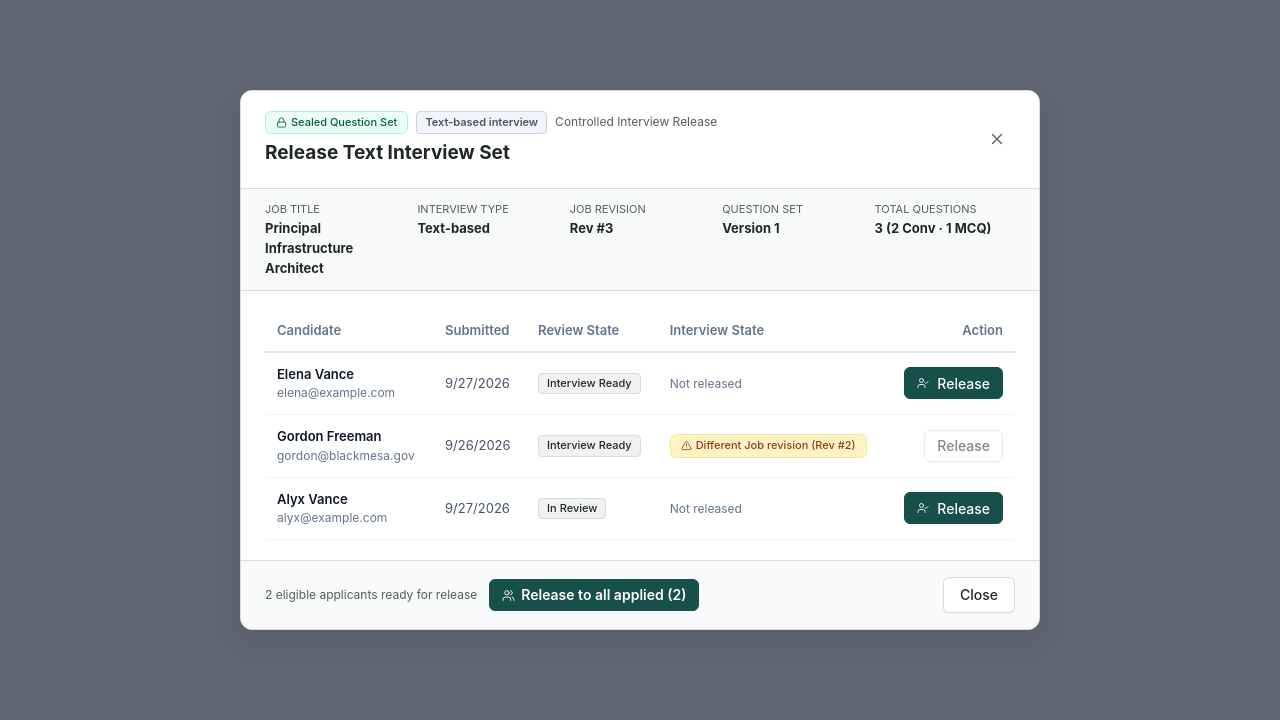
Test case: Phase 4C.3 Corrective UI Additions › A. Release Interview Set from Sealed AI Interview Page › 5. Successful release updates the row to Released
The image size is (1280, 720).
Click the button titled "Release interview set to Elena Vance" in the row of "Elena Vance": point(954, 383) left=904, top=367, right=1003, bottom=399
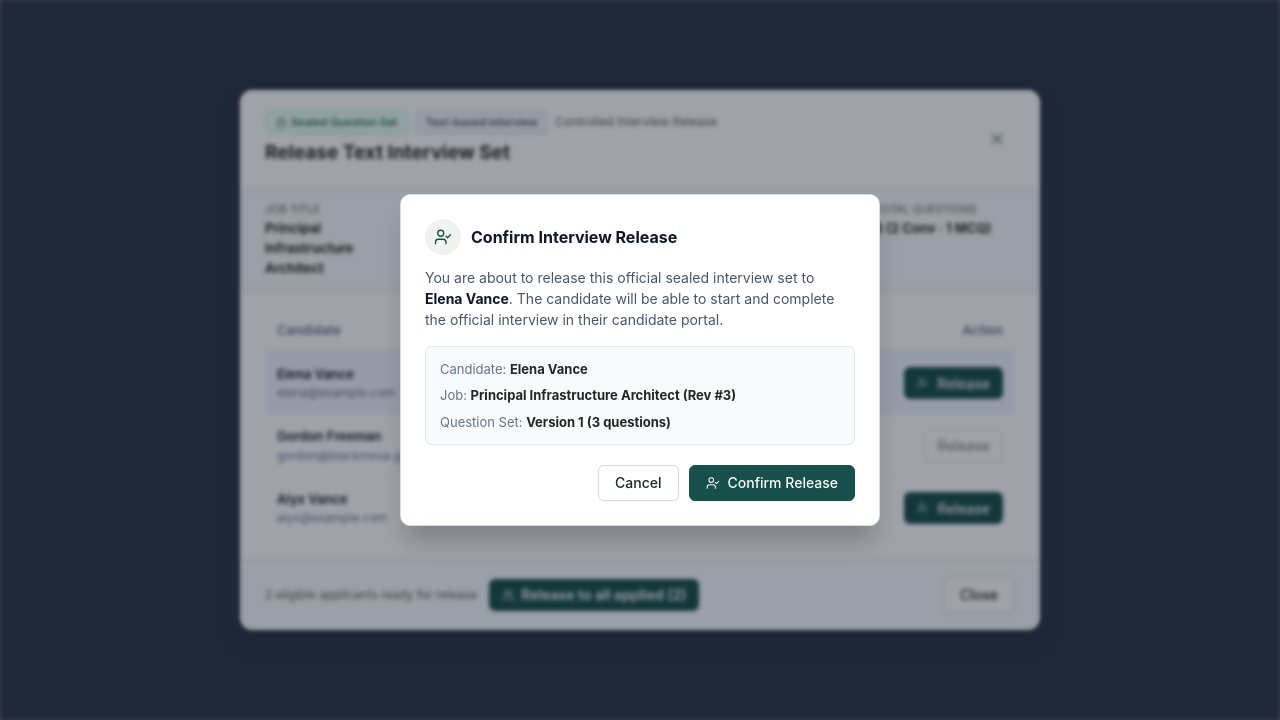
Click the button "Confirm Release": point(772, 483) left=688, top=465, right=855, bottom=501
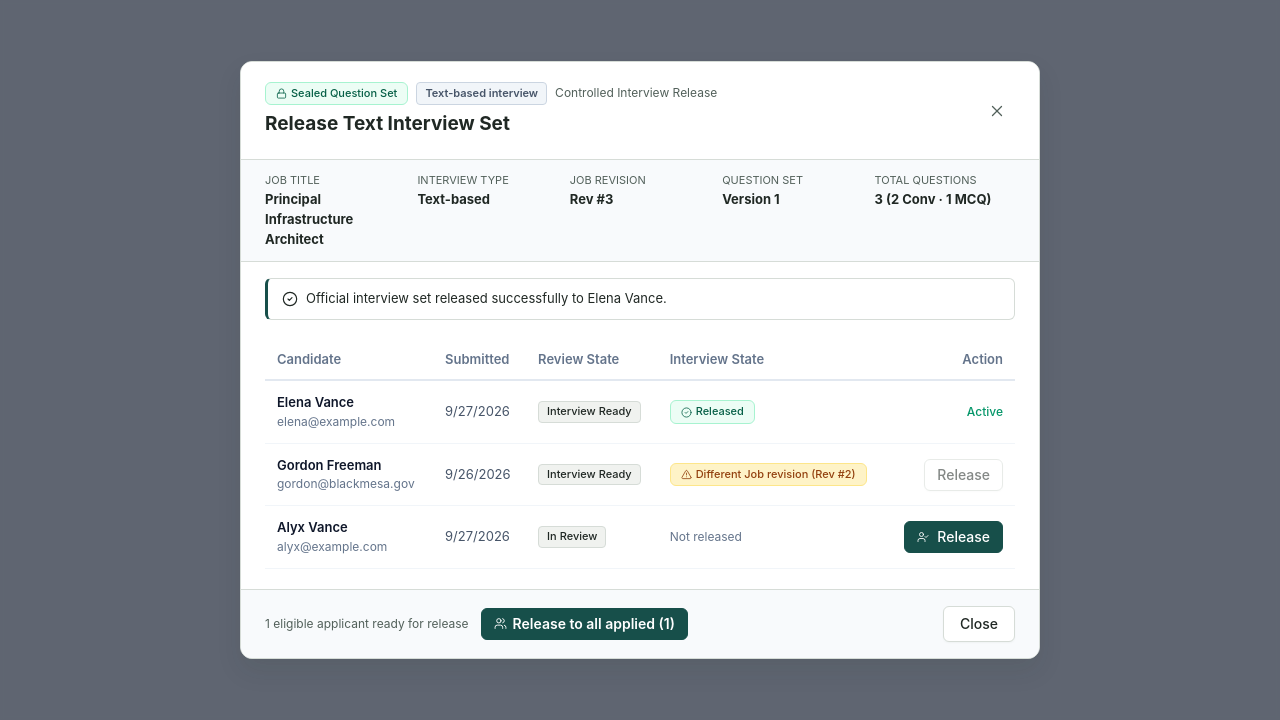
Now the text "Official interview set released successfully to Elena Vance." is shown, box left=306, top=289, right=667, bottom=309
Now the text "Released" is shown, box left=696, top=404, right=744, bottom=420
